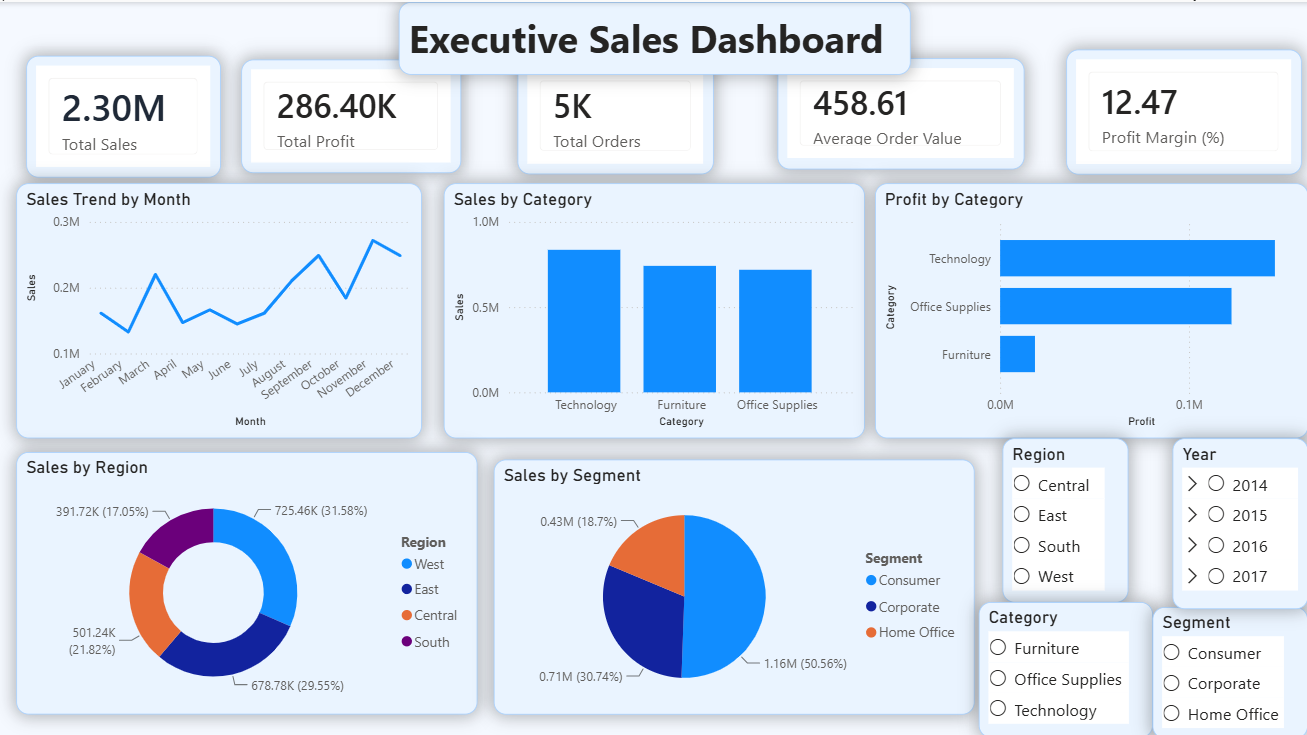

Layout of this report page (visuals, bound fields, positions):
{"tool":"powerbi","page":{"name":"Executive Sales","canvas":[1280,720],"ordinal":0},"visuals":[{"type":"cardVisual","fields":{"Data":["superstore_sales_cleaned.Total Sales"]},"box":[26.1,52.1,190.7,119.4],"z":0},{"type":"cardVisual","fields":{"Data":["superstore_sales_cleaned.Total Profit"]},"box":[236,56.3,215.4,111.1],"z":1000},{"type":"cardVisual","fields":{"Data":["superstore_sales_cleaned.Total Orders"]},"box":[506.3,54.9,192.1,113.9],"z":2000},{"type":"cardVisual","fields":{"Data":["superstore_sales_cleaned.Average Order Value"]},"box":[760.2,54.9,241.5,108.4],"z":4000},{"type":"cardVisual","fields":{"Data":["superstore_sales_cleaned.Profit Margin"]},"box":[1042.9,46.7,230.5,122.1],"z":5000},{"type":"lineChart","title":"Sales Trend by Month","fields":{"Category":["superstore_sales_cleaned.Order Date.Variation.Date Hierarchy.Month"],"Y":["Sum(superstore_sales_cleaned.Sales)"]},"box":[16.5,177,396.6,249.7],"z":6000},{"type":"clusteredColumnChart","fields":{"Category":["superstore_sales_cleaned.Category"],"Y":["Sum(superstore_sales_cleaned.Sales)"]},"box":[433.6,177,411.7,249.7],"z":7000},{"type":"clusteredBarChart","fields":{"Category":["superstore_sales_cleaned.Category"],"Y":["Sum(superstore_sales_cleaned.Profit)"]},"box":[856.3,177,424,249.7],"z":8000},{"type":"donutChart","fields":{"Category":["superstore_sales_cleaned.Region"],"Y":["Sum(superstore_sales_cleaned.Sales)"]},"box":[16.5,440.5,451.5,256.6],"z":9000},{"type":"pieChart","fields":{"Category":["superstore_sales_cleaned.Segment"],"Y":["Sum(superstore_sales_cleaned.Sales)"]},"box":[483,447.3,470.7,249.7],"z":10000},{"type":"listSlicer","fields":{"Values":["superstore_sales_cleaned.Region"]},"box":[981.1,426.8,123.5,160.5],"z":11000},{"type":"listSlicer","fields":{"Values":["superstore_sales_cleaned.Category"]},"box":[957.8,587.3,170.2,133.1],"z":12000},{"type":"listSlicer","fields":{"Values":["superstore_sales_cleaned.Segment"]},"box":[1128,591.4,152.3,129],"z":13000},{"type":"listSlicer","fields":{"Values":["superstore_sales_cleaned.Order Date.Variation.Date Hierarchy.Year","superstore_sales_cleaned.Order Date.Variation.Date Hierarchy.Month","superstore_sales_cleaned.Order Date.Variation.Date Hierarchy.Day"]},"box":[1147.2,426.8,133.1,167.4],"z":14000},{"type":"textbox","box":[389.7,0,500.9,71.4],"z":15000}]}

Visuals, with their boxes in screenshot pixels (x1, y1, x2, y2), scaled from the page's 1280x720 canvas onto the 1307x735 screenshot:
cardVisual - superstore_sales_cleaned.Total Sales: x1=27 y1=53 x2=221 y2=175
cardVisual - superstore_sales_cleaned.Total Profit: x1=241 y1=57 x2=461 y2=171
cardVisual - superstore_sales_cleaned.Total Orders: x1=517 y1=56 x2=713 y2=172
cardVisual - superstore_sales_cleaned.Average Order Value: x1=776 y1=56 x2=1023 y2=167
cardVisual - superstore_sales_cleaned.Profit Margin: x1=1065 y1=48 x2=1300 y2=172
"Sales Trend by Month" lineChart: x1=17 y1=181 x2=422 y2=436
clusteredColumnChart - superstore_sales_cleaned.Category x Sum(superstore_sales_cleaned.Sales): x1=443 y1=181 x2=863 y2=436
clusteredBarChart - superstore_sales_cleaned.Category x Sum(superstore_sales_cleaned.Profit): x1=874 y1=181 x2=1306 y2=436
donutChart - superstore_sales_cleaned.Region x Sum(superstore_sales_cleaned.Sales): x1=17 y1=450 x2=478 y2=712
pieChart - superstore_sales_cleaned.Segment x Sum(superstore_sales_cleaned.Sales): x1=493 y1=457 x2=974 y2=712
listSlicer - superstore_sales_cleaned.Region: x1=1002 y1=436 x2=1128 y2=600
listSlicer - superstore_sales_cleaned.Category: x1=978 y1=600 x2=1152 y2=734
listSlicer - superstore_sales_cleaned.Segment: x1=1152 y1=604 x2=1306 y2=734
listSlicer - superstore_sales_cleaned.Order Date.Variation.Date Hierarchy.Year x superstore_sales_cleaned.Order Date.Variation.Date Hierarchy.Month: x1=1171 y1=436 x2=1306 y2=607
textbox: x1=398 y1=0 x2=909 y2=73
